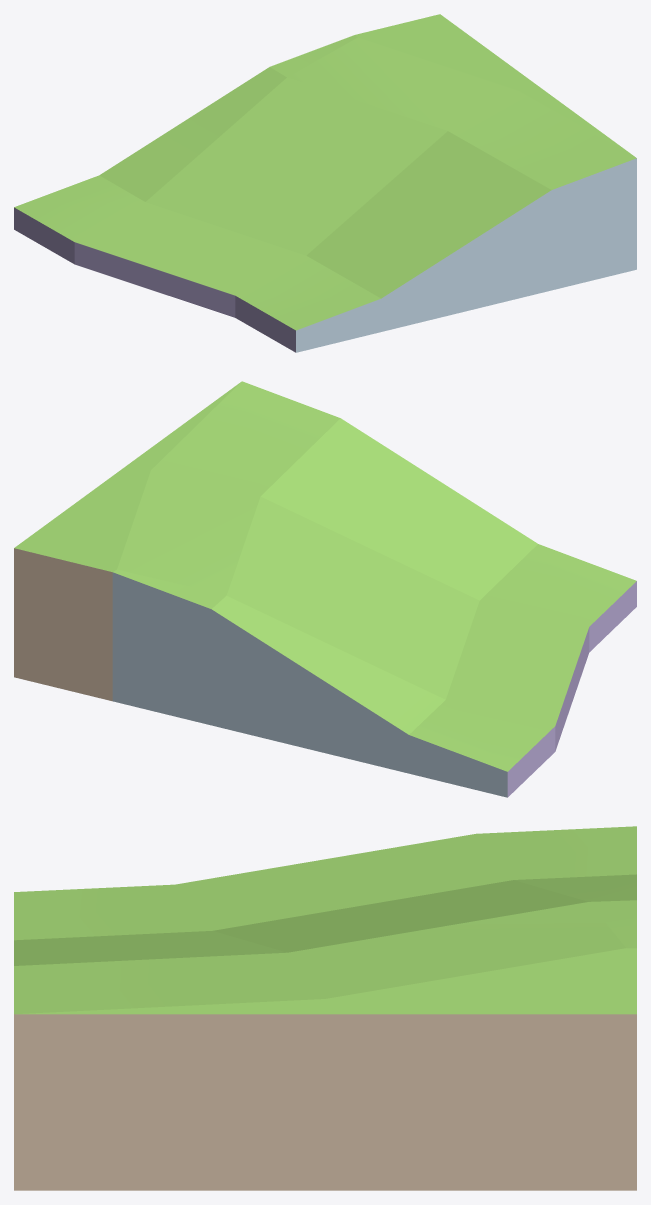
Rendered from Grass_Hill_Gentle_Esse_4x5.fbx.
The picture shows the model from 3 angles, top to bottom: view 1: azimuth 30°, elevation 25°; view 2: azimuth 150°, elevation 25°; view 3: azimuth 270°, elevation 25°; orthographic projection. The views are drawn at different scales.
Parts seen in each view (by area): view 1: Grass_Hill_Gentle_Esse_4x5; view 2: Grass_Hill_Gentle_Esse_4x5; view 3: Grass_Hill_Gentle_Esse_4x5.
Boxes of the visible parts, x1,y1,x2,y2 form: Grass_Hill_Gentle_Esse_4x5: (14,14,636,352); Grass_Hill_Gentle_Esse_4x5: (14,381,636,797); Grass_Hill_Gentle_Esse_4x5: (14,826,636,1190).
Size of the model in its own units: 500 by 125 by 400.
